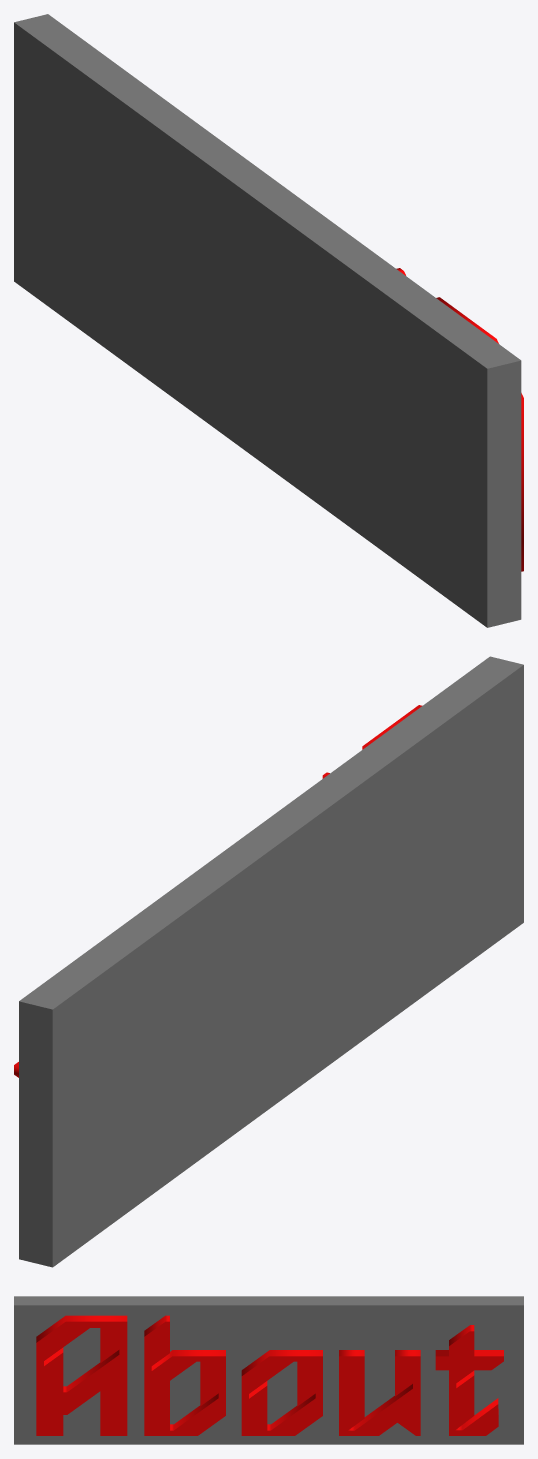
Rendered from About.glb.
3 views of the same model, one above another, from view 1: azimuth 30°, elevation 25°; view 2: azimuth 150°, elevation 25°; view 3: azimuth 270°, elevation 25° (orthographic). The views are drawn at different scales.
Parts seen in each view (by area): view 1: Cube, Text; view 2: Cube; view 3: Cube, Text.
Part boxes in pixels (x1,y1,x2,y2): Cube: (14,14,521,627); Text: (396,268,523,571); Cube: (19,656,523,1267); Cube: (14,1296,523,1444); Text: (36,1315,503,1435).
Bounding box in the file's own units: 0.1737 × 0.7493 × 2.48.
